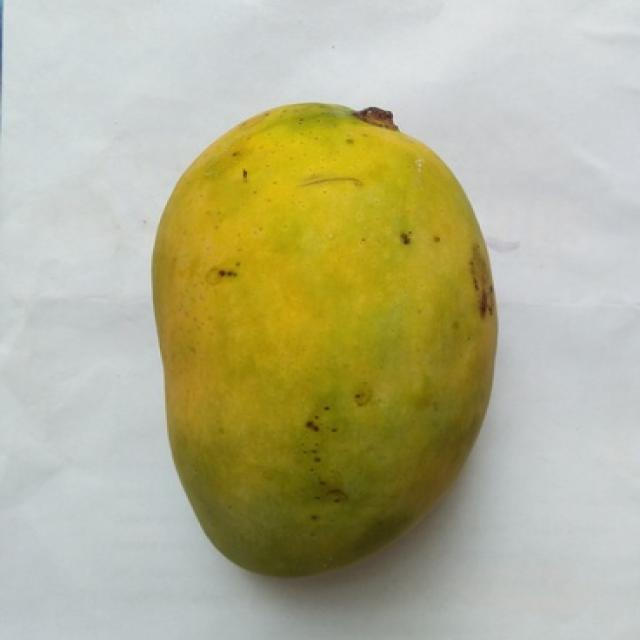Mango: (153, 104, 496, 574)
